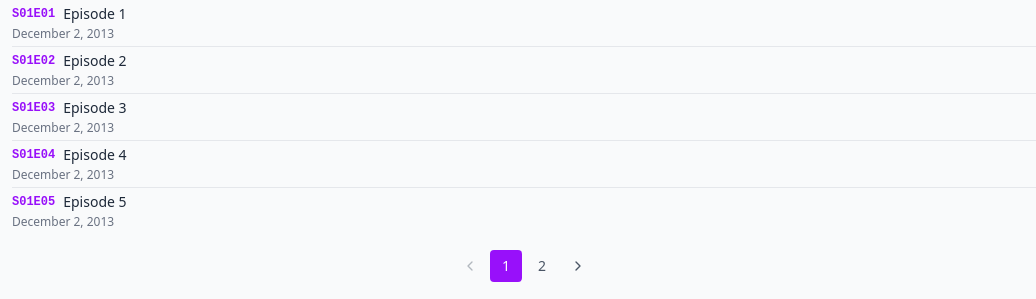
EpisodeList (EpisodeComparison feature) › navigates to page 2 when Next is clicked
Click the button named "siguiente": [578, 266] box [562,250,594,282]
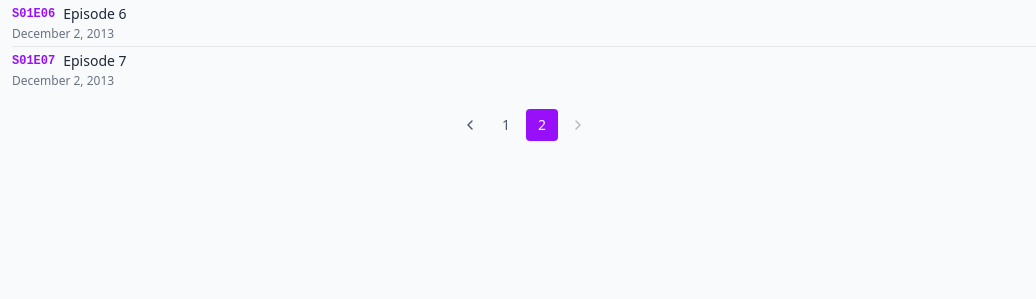
Expected: the text "Episode 6" is shown, [63,4,126,24]
Expected: the text "Episode 1" is gone
